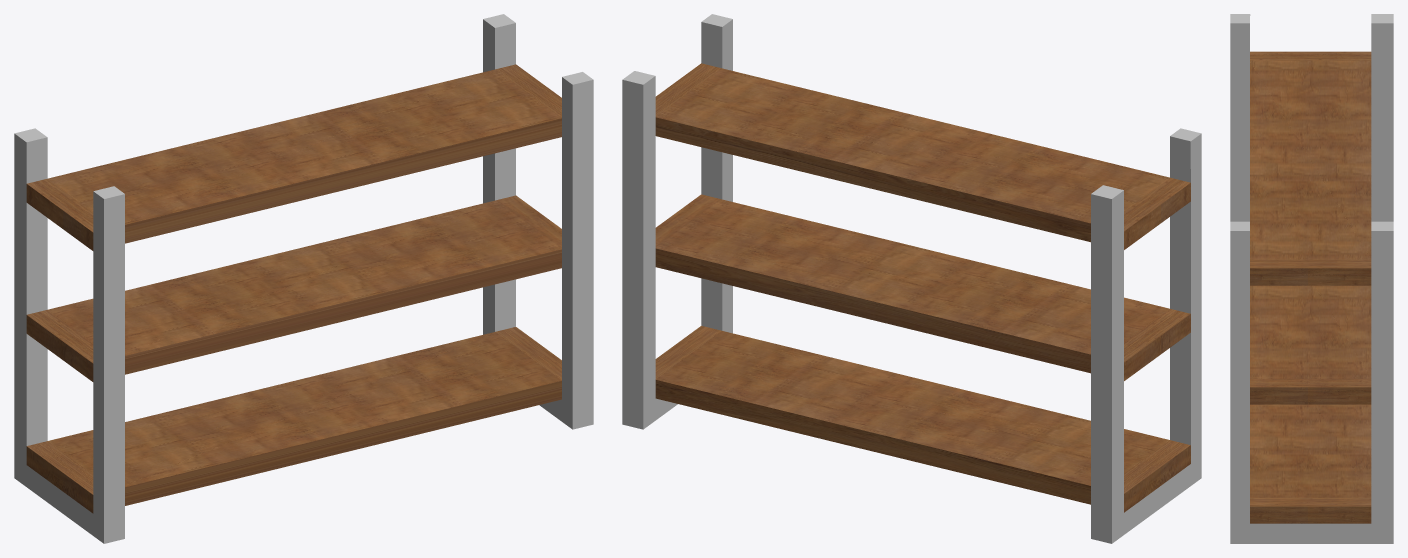
File: Estante_3_MaC_MeE_G.fbx
3 views of the same model, side by side, from view 1: azimuth 30°, elevation 25°; view 2: azimuth 150°, elevation 25°; view 3: azimuth 270°, elevation 25° (orthographic). The views are drawn at different scales.
Visible parts, largest first — view 1: polySurface40; view 2: polySurface40; view 3: polySurface40.
Part boxes in pixels (box(x1,y1,x2,y2)): polySurface40: box(14, 14, 593, 543); polySurface40: box(622, 14, 1201, 543); polySurface40: box(1230, 14, 1393, 543).
Size of the model in its own units: 2.57 by 1.73 by 0.8151.
